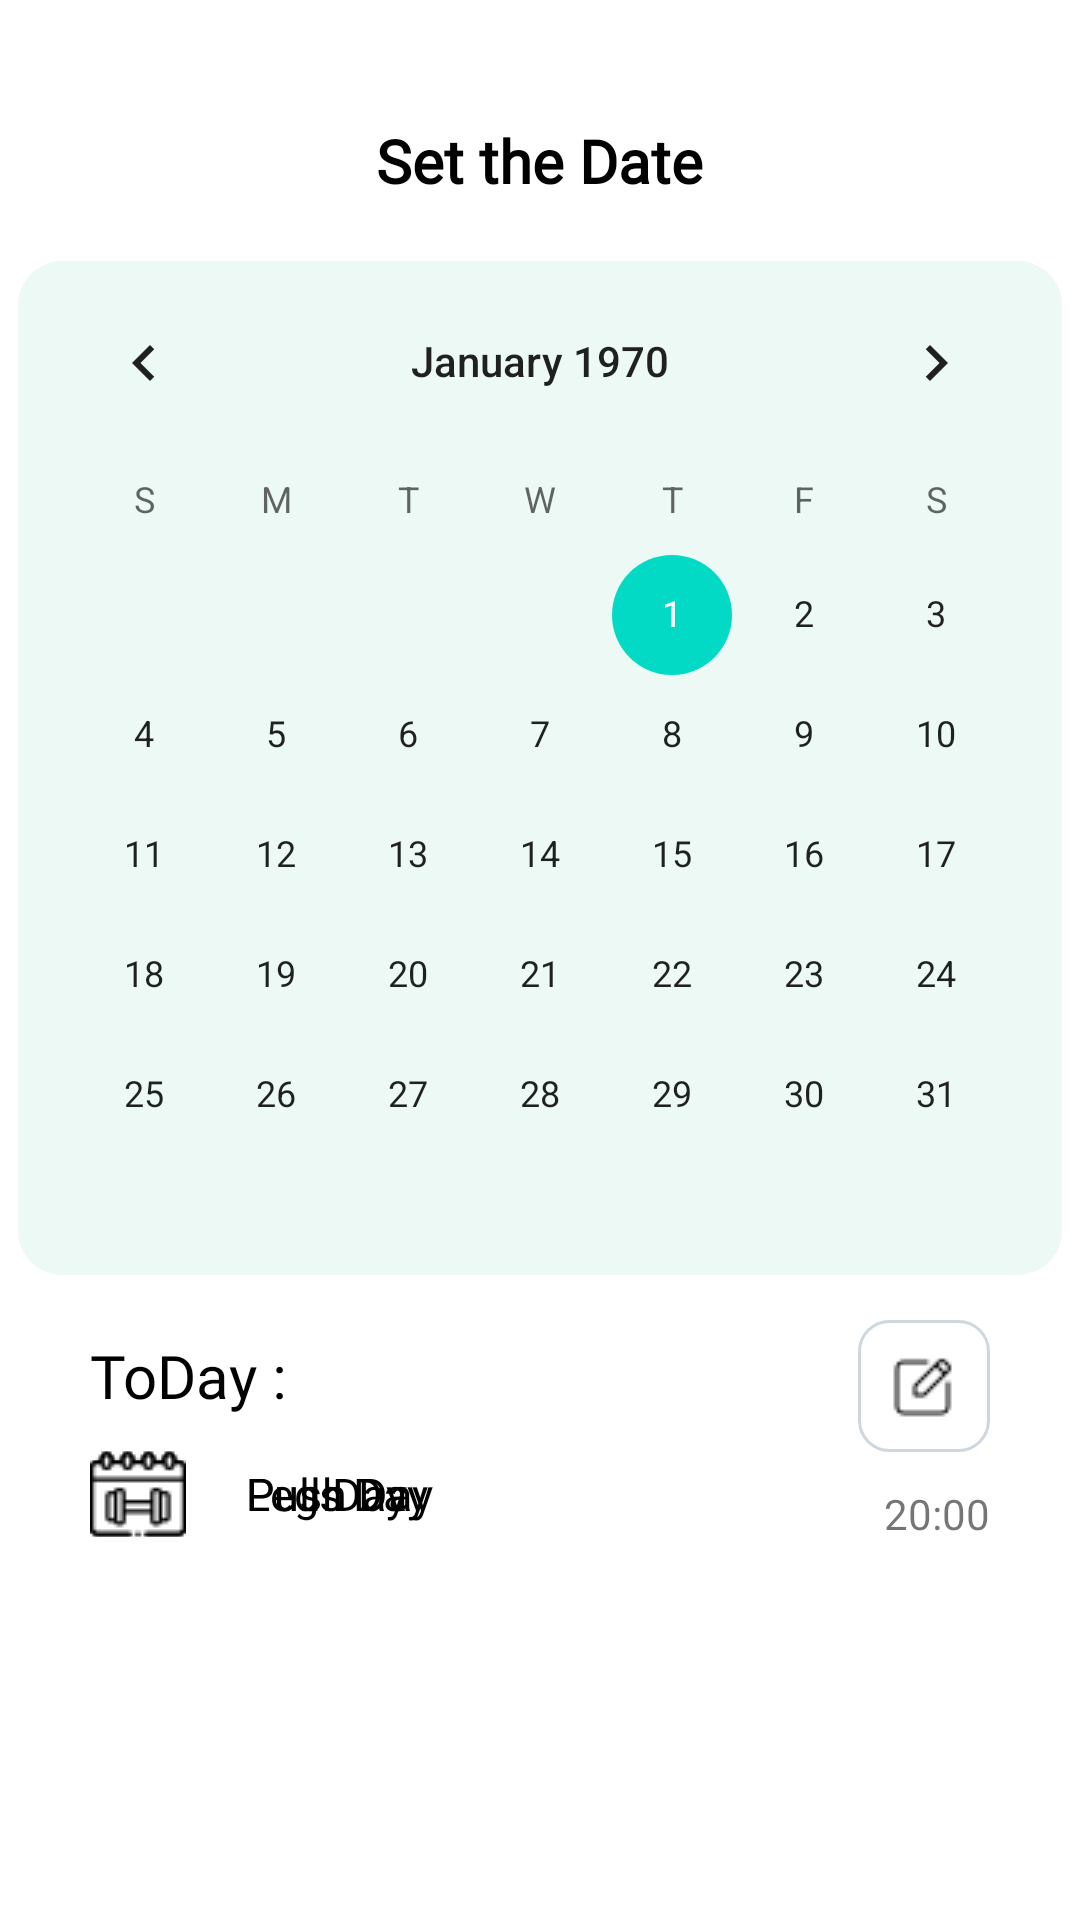

Where to tap for icons on this 1080*1920 app screen, as (x,y):
editer: (924,1386)
